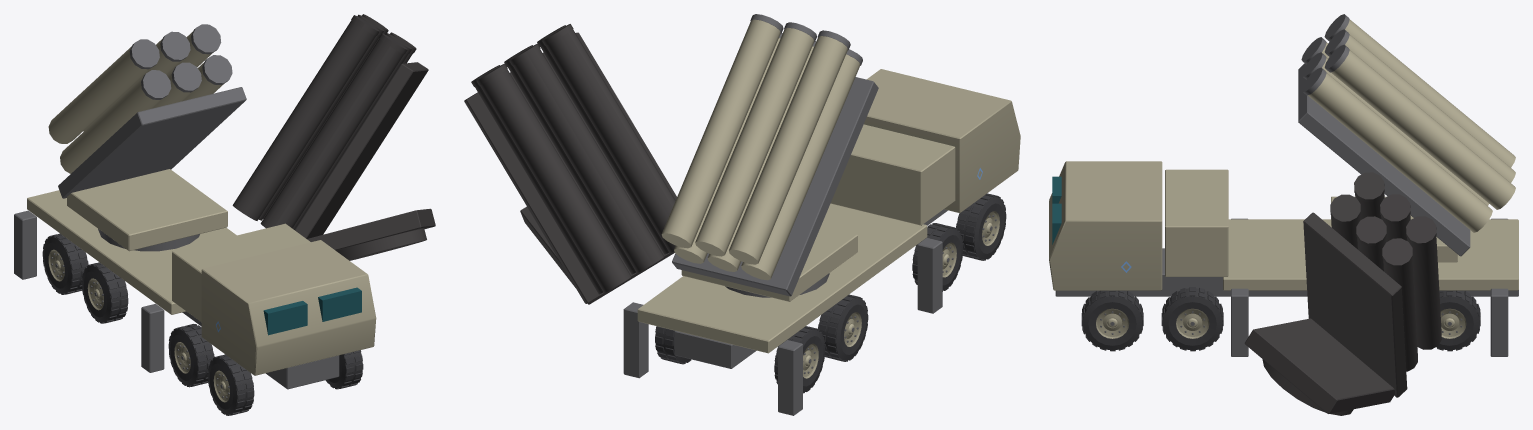
The model's file is abmLauncher__l_sam_trailer.glb.
The picture shows the model from 3 angles, left to right: view 1: azimuth 30°, elevation 25°; view 2: azimuth 150°, elevation 25°; view 3: azimuth 270°, elevation 25°; orthographic projection. The views are drawn at different scales.
Parts seen in each view (by area): view 1: Hull_Mesh, Wreck, Gun_Mesh, Turret_Mesh, Wheel_L3_Mesh, Wheel_L1_Mesh, Wheel_L2_Mesh, Wheel_L0_Mesh, Wheel_R3_Mesh; view 2: Hull_Mesh, Gun_Mesh, Wreck, Turret_Mesh, Wheel_L1_Mesh, Wheel_L3_Mesh, Wheel_L2_Mesh, Wheel_L0_Mesh, Wheel_R0_Mesh; view 3: Hull_Mesh, Wreck, Gun_Mesh, Wheel_R2_Mesh, Wheel_R3_Mesh, Wheel_R0_Mesh.
Boxes of the visible parts, bbox=[...] form: Hull_Mesh: bbox=[14, 190, 376, 389]; Wreck: bbox=[106, 14, 435, 387]; Gun_Mesh: bbox=[48, 24, 246, 198]; Turret_Mesh: bbox=[67, 169, 227, 251]; Wheel_L3_Mesh: bbox=[207, 354, 254, 415]; Wheel_L1_Mesh: bbox=[82, 262, 128, 323]; Wheel_L2_Mesh: bbox=[168, 324, 214, 387]; Wheel_L0_Mesh: bbox=[42, 233, 88, 294]; Wheel_R3_Mesh: bbox=[325, 350, 363, 389]; Hull_Mesh: bbox=[623, 69, 1020, 415]; Gun_Mesh: bbox=[661, 14, 878, 296]; Wreck: bbox=[464, 24, 987, 360]; Turret_Mesh: bbox=[681, 225, 857, 301]; Wheel_L1_Mesh: bbox=[818, 294, 868, 361]; Wheel_L3_Mesh: bbox=[956, 193, 1006, 260]; Wheel_L2_Mesh: bbox=[912, 223, 963, 291]; Wheel_L0_Mesh: bbox=[774, 326, 825, 393]; Wheel_R0_Mesh: bbox=[655, 326, 691, 364]; Hull_Mesh: bbox=[1049, 161, 1518, 356]; Wreck: bbox=[1195, 172, 1441, 415]; Gun_Mesh: bbox=[1298, 14, 1515, 256]; Wheel_R2_Mesh: bbox=[1161, 287, 1223, 351]; Wheel_R3_Mesh: bbox=[1081, 290, 1143, 351]; Wheel_R0_Mesh: bbox=[1436, 290, 1480, 351].
Size of what is drawn, in the model's own units: 7.62 by 5.77 by 8.5.
